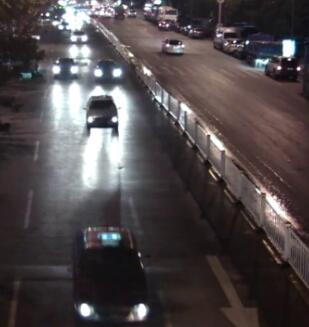bus: (150, 2, 179, 22)
car: (70, 225, 153, 326), (80, 91, 123, 133), (264, 51, 304, 80), (90, 56, 123, 82), (49, 54, 81, 77), (160, 36, 186, 54), (224, 33, 248, 52), (179, 17, 203, 35), (215, 22, 231, 47), (65, 28, 88, 44), (157, 17, 174, 29)
